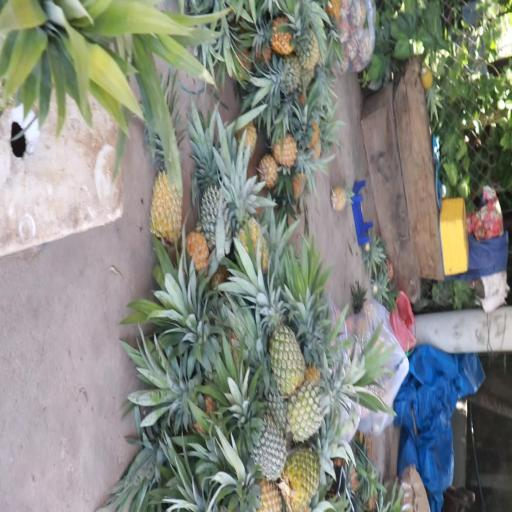------------------------------: (290, 354, 357, 440), (258, 284, 308, 390), (283, 435, 352, 503)
Pineapple - v8 v1: (146, 114, 188, 253), (272, 123, 324, 175)
